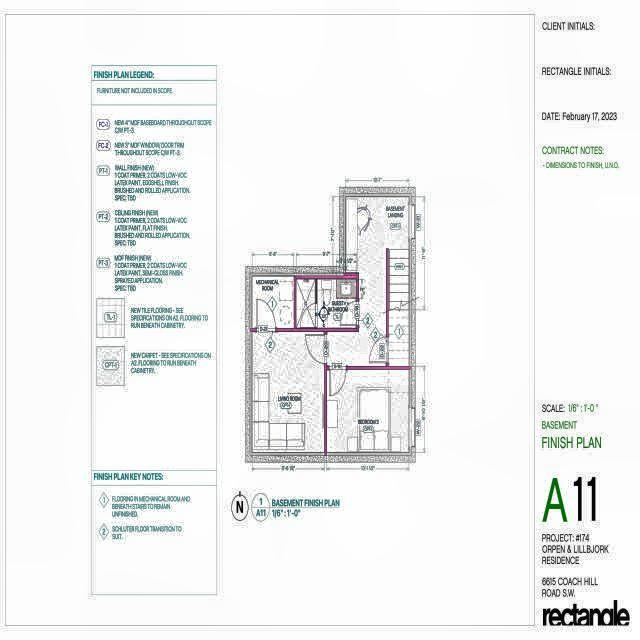room: (252, 332, 324, 452), (327, 370, 409, 452), (252, 276, 294, 328), (317, 279, 356, 328), (296, 279, 315, 328)
